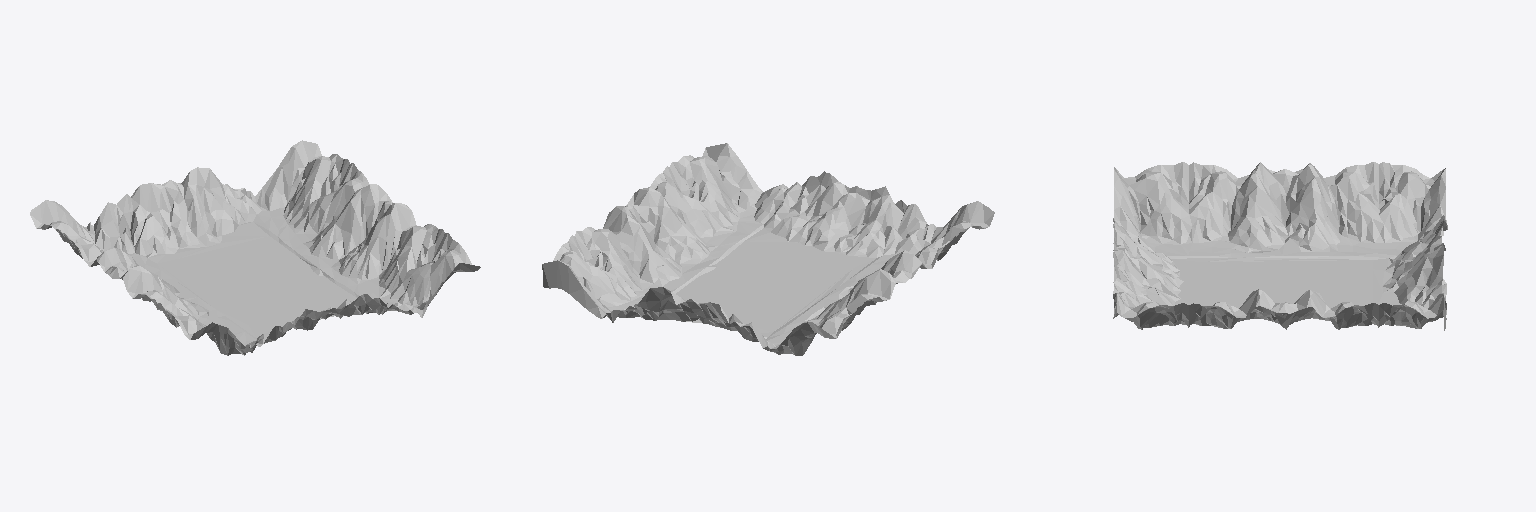
File: Terrain.obj
The picture shows the model from 3 angles: view 1: azimuth 30°, elevation 25°; view 2: azimuth 150°, elevation 25°; view 3: azimuth 270°, elevation 25°; orthographic projection.
Parts seen in each view (by area): view 1: Plane_Plane.001; view 2: Plane_Plane.001; view 3: Plane_Plane.001.
Boxes of the visible parts, box(x1,y1,x2,y2) form: Plane_Plane.001: box(30, 140, 480, 355); Plane_Plane.001: box(542, 143, 994, 355); Plane_Plane.001: box(1113, 162, 1447, 330).
Size of the model in its own units: 538 by 105 by 540.